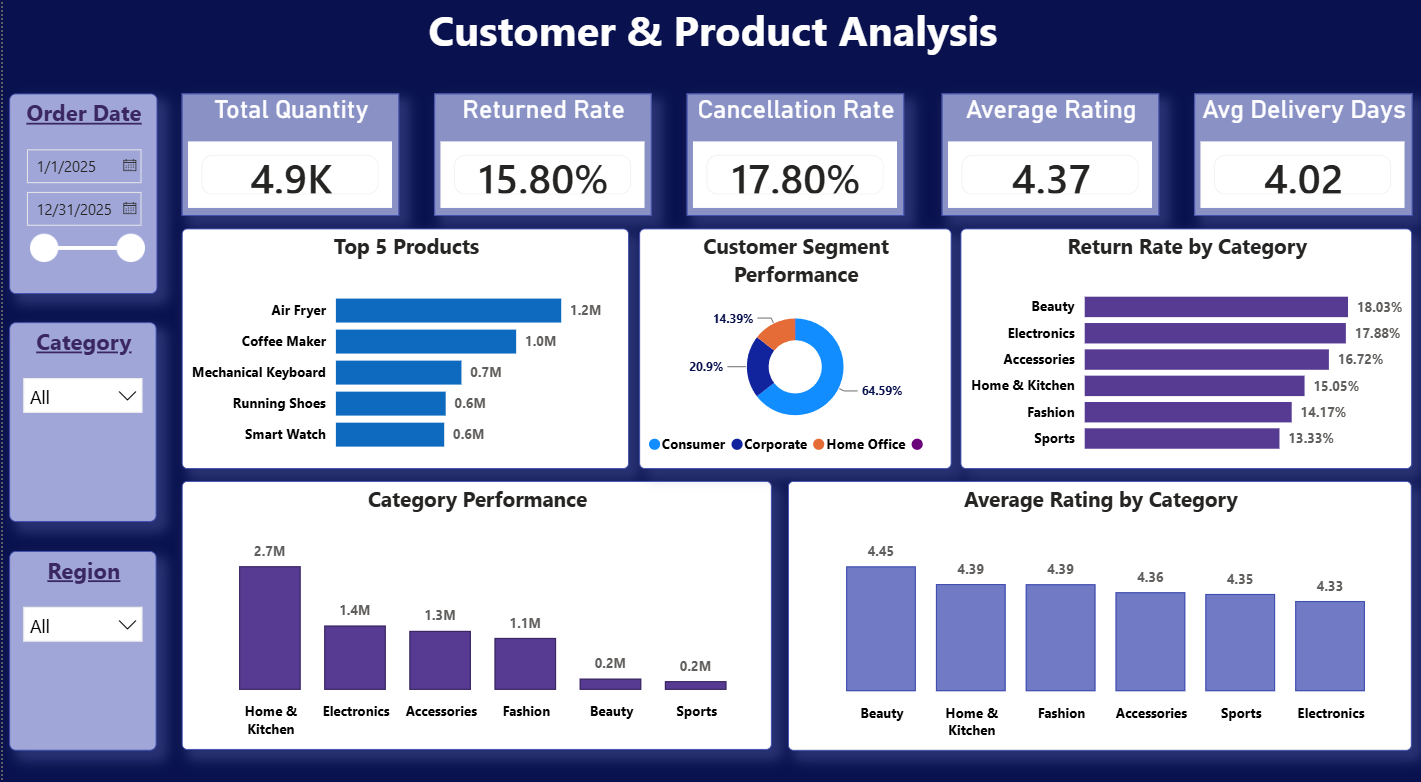

Layout of this report page (visuals, bound fields, positions):
{"tool":"powerbi","page":{"name":"Product & Customer Analysis","canvas":[1280,720],"ordinal":1},"visuals":[{"type":"cardVisual","title":"Total Quantity","fields":{"Data":["Table1.Total_Quantity"]},"box":[161.4,88,196,110],"z":0},{"type":"cardVisual","title":"Returned Rate","fields":{"Data":["Table1.Return_Rate"]},"box":[388.9,88,196,110],"z":1000},{"type":"cardVisual","title":"Cancellation Rate","fields":{"Data":["Table1.Cancellation_Rate"]},"box":[616.3,88,196,110.1],"z":2000},{"type":"cardVisual","title":"Average Rating","fields":{"Data":["Table1.Average_Rating"]},"box":[846.2,88,196,110],"z":3000},{"type":"cardVisual","title":"Avg Delivery Days","fields":{"Data":["Table1.Average_Delivery_Days"]},"box":[1073.6,88,196.9,110.1],"z":4000},{"type":"textbox","box":[0,0,1280.3,62.4],"z":5000},{"type":"clusteredBarChart","title":"Top 5 Products","fields":{"Category":["Table1.Product"],"Y":["Table1.Total_Revenue"]},"box":[161.4,209.1,403.5,216.4],"z":6000},{"type":"clusteredColumnChart","title":"Category Performance","fields":{"Category":["Table1.Category"],"Y":["Table1.Total_Revenue"]},"box":[161.4,437.8,531.9,242.1],"z":7000},{"type":"donutChart","title":"Customer Segment Performance","fields":{"Category":["Table1.Customer_Segment"],"Y":["Table1.Total_Revenue"]},"box":[573.5,209.1,281.3,216.4],"z":8000},{"type":"slicer","title":"Order Date","fields":{"Values":["Table1.Order_Date"]},"box":[6.1,88,133.3,181],"z":9000},{"type":"slicer","title":"Category","fields":{"Values":["Table1.Category"]},"box":[6.1,294.6,133,180],"z":10000},{"type":"slicer","title":"Region","fields":{"Values":["Table1.Region"]},"box":[6.1,500.1,133,180],"z":11000},{"type":"clusteredBarChart","title":"Return Rate by Category","fields":{"Category":["Table1.Category"],"Y":["Table1.Return_Rate"]},"box":[863.3,209.1,407.2,216.4],"z":12000},{"type":"clusteredColumnChart","title":"Average Rating by Category","fields":{"Category":["Table1.Category"],"Y":["Table1.Average_Rating"]},"box":[708,437.8,562.5,243.3],"z":13000}]}

Visuals, with their boxes in screenshot pixels (x1, y1, x2, y2), scaled from the page's 1280x720 canvas onto the 1421x782 screenshot:
"Total Quantity" cardVisual: 179, 96, 397, 215
"Returned Rate" cardVisual: 432, 96, 649, 215
"Cancellation Rate" cardVisual: 684, 96, 902, 215
"Average Rating" cardVisual: 939, 96, 1157, 215
"Avg Delivery Days" cardVisual: 1192, 96, 1410, 215
textbox: 0, 0, 1420, 68
"Top 5 Products" clusteredBarChart: 179, 227, 627, 462
"Category Performance" clusteredColumnChart: 179, 475, 770, 738
"Customer Segment Performance" donutChart: 637, 227, 949, 462
"Order Date" slicer: 7, 96, 155, 292
"Category" slicer: 7, 320, 154, 515
"Region" slicer: 7, 543, 154, 739
"Return Rate by Category" clusteredBarChart: 958, 227, 1410, 462
"Average Rating by Category" clusteredColumnChart: 786, 475, 1410, 740
